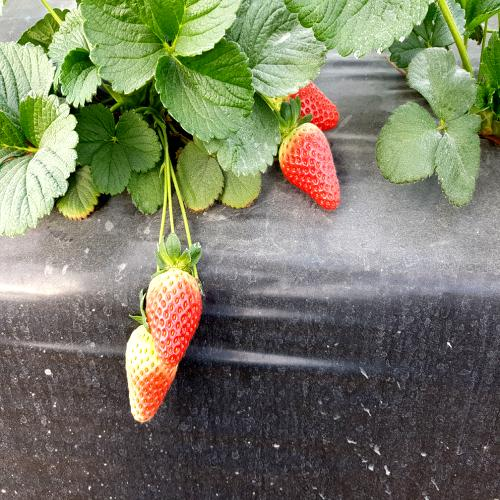partially-ripe: (139, 263, 202, 380), (124, 319, 184, 438)
ripe: (282, 109, 348, 237)
